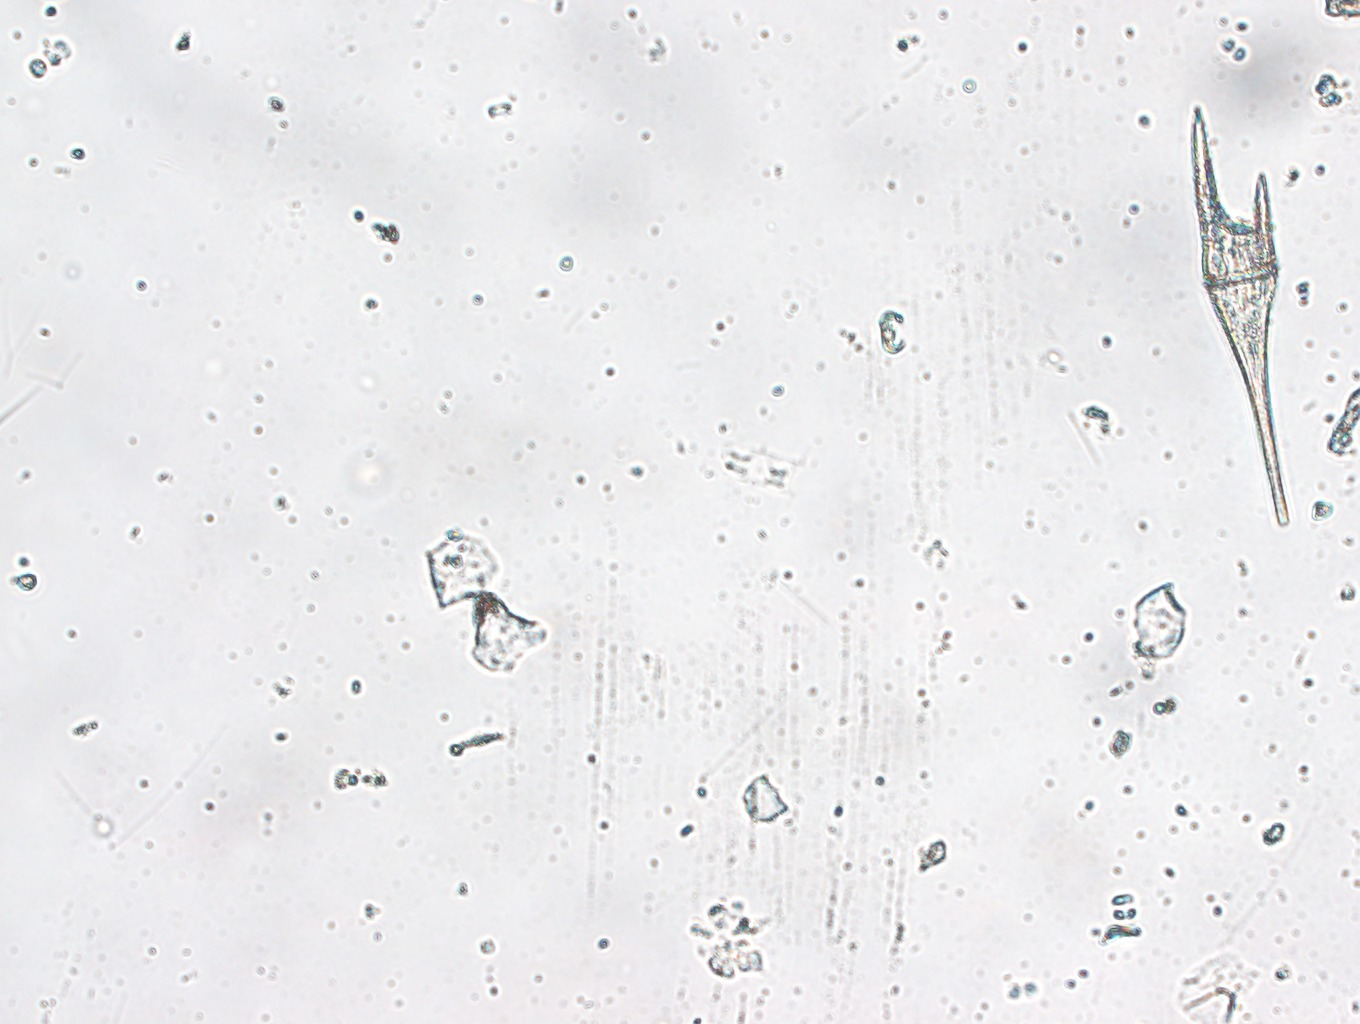ceratium furca: (1173, 108, 1291, 535)
